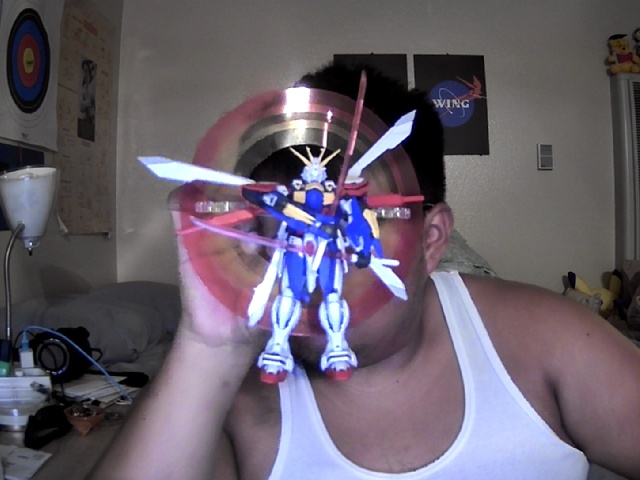God: (136, 85, 425, 387)
